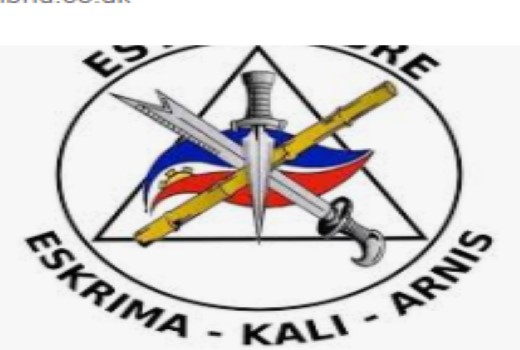baston_e: (152, 82, 380, 246)
baston_v: (375, 73, 402, 102), (128, 224, 154, 253)
